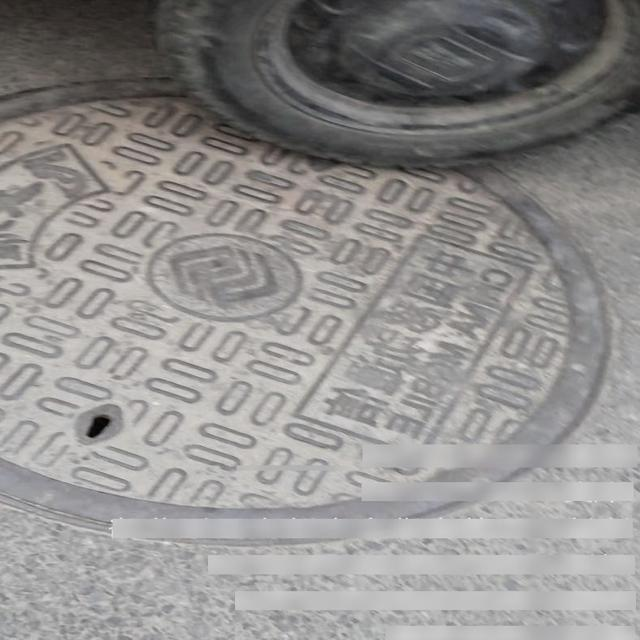good: (0, 137, 593, 545)
